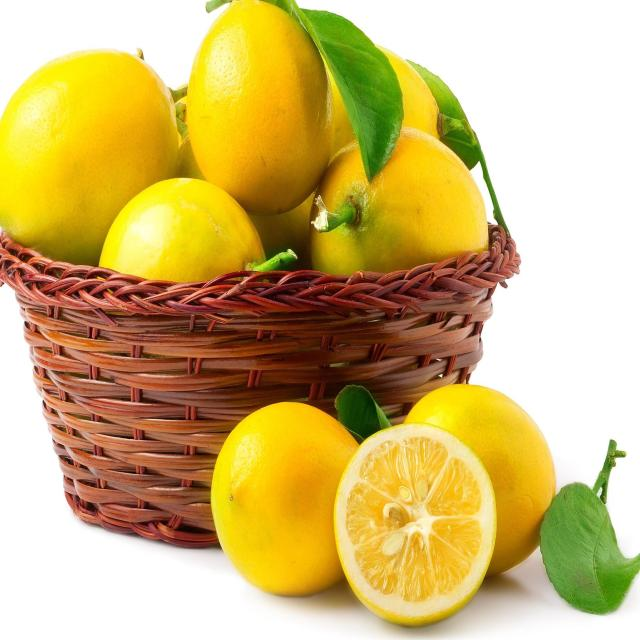lemon: (183, 0, 340, 234), (330, 417, 498, 630)
